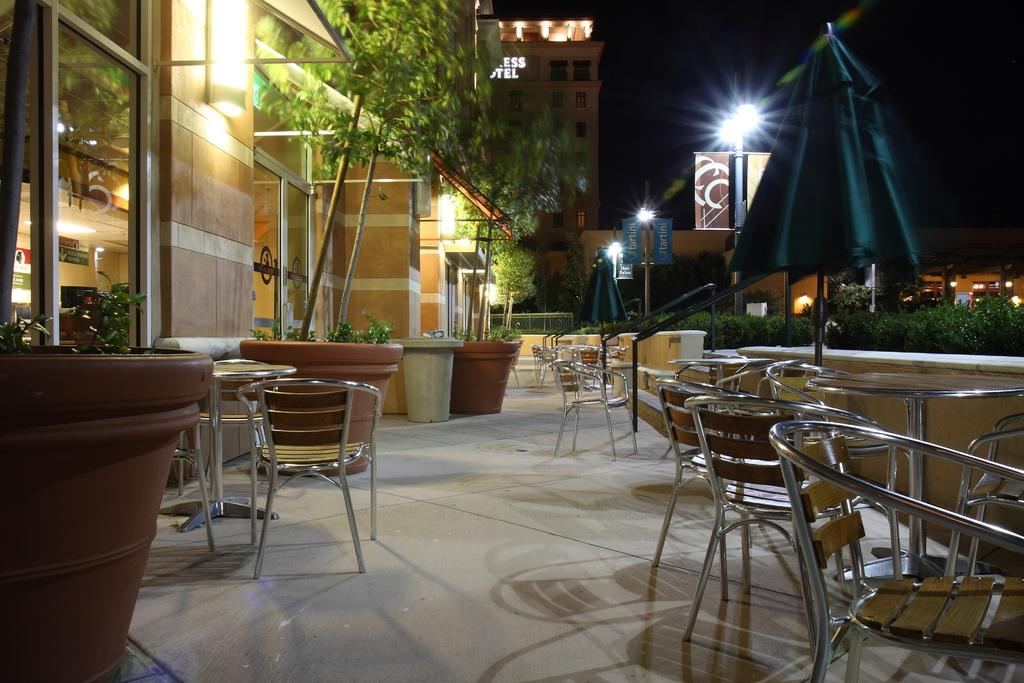Chair: (787, 412, 1023, 682), (682, 399, 871, 672), (211, 345, 380, 561), (648, 377, 733, 567), (552, 354, 646, 467)
